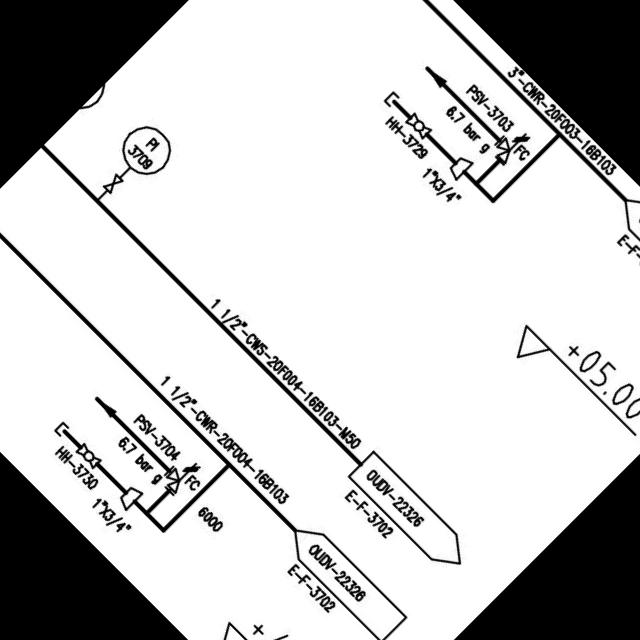BV2: (401, 106, 436, 141), (72, 437, 105, 470)
EC: (48, 414, 84, 449), (375, 84, 410, 118)
GV: (100, 168, 130, 198)
RPV: (481, 117, 536, 172), (153, 451, 204, 502)
SP: (442, 148, 476, 183), (112, 480, 146, 514)
